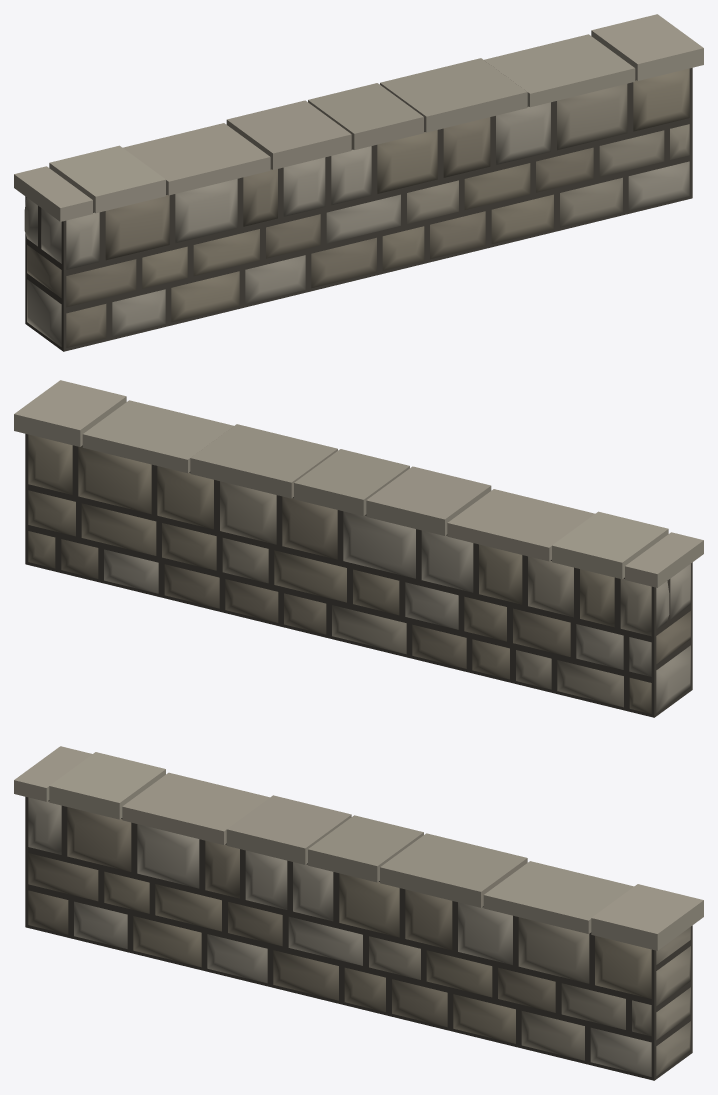
File: wall.fieldstone.limestone.glb
The picture shows the model from 3 angles, top to bottom: view 1: azimuth 30°, elevation 25°; view 2: azimuth 150°, elevation 25°; view 3: azimuth 330°, elevation 25°; orthographic projection.
Visible parts, largest first — view 1: wall_fieldstone_limestone; view 2: wall_fieldstone_limestone; view 3: wall_fieldstone_limestone.
Part boxes in pixels (box(x1,y1,x2,y2)): wall_fieldstone_limestone: box(14, 14, 703, 351); wall_fieldstone_limestone: box(14, 380, 703, 717); wall_fieldstone_limestone: box(14, 746, 703, 1080).
Size of what is drawn, in the model's own units: 4 by 0.9 by 0.5.
